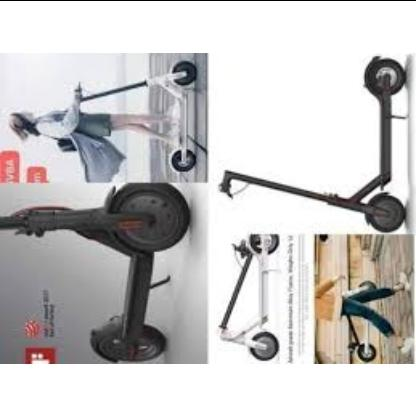bike: (0, 181, 191, 364), (8, 60, 202, 182)
